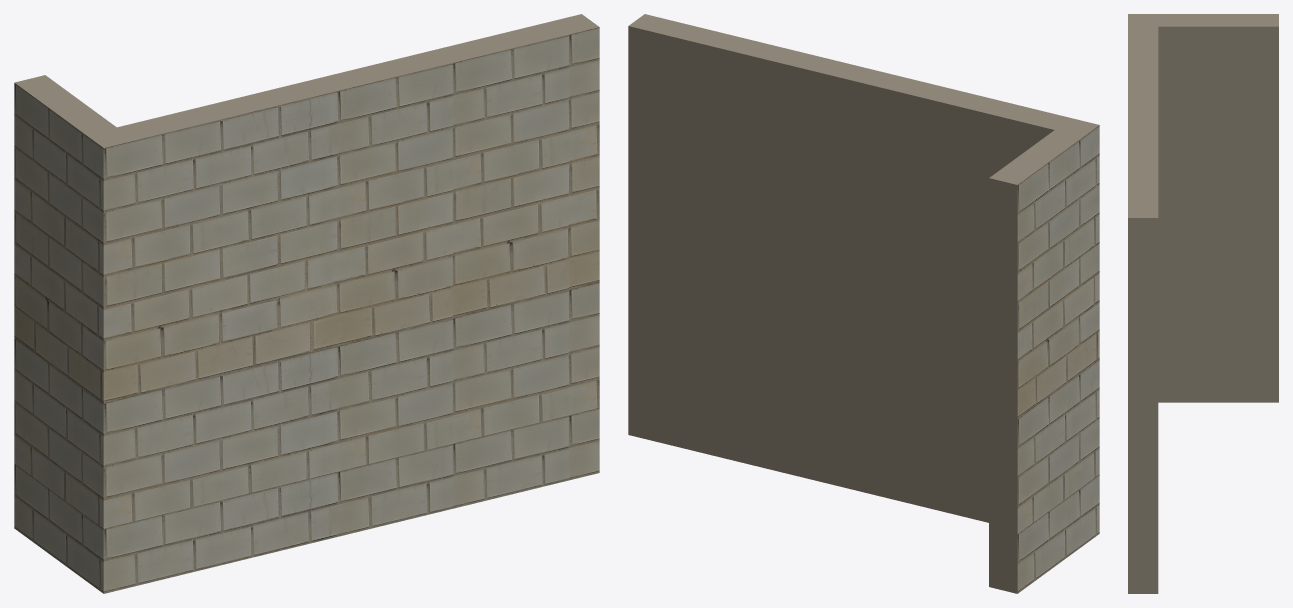
The picture shows the model from 3 angles, left to right: view 1: azimuth 30°, elevation 25°; view 2: azimuth 150°, elevation 25°; view 3: azimuth 270°, elevation 25°; orthographic projection. The views are drawn at different scales.
Visible parts, largest first — view 1: wall; view 2: wall; view 3: wall.
Part boxes in pixels (left/top/right/bottom): wall: left=14, top=14, right=599, bottom=593; wall: left=628, top=14, right=1099, bottom=593; wall: left=1128, top=14, right=1278, bottom=593.
Bounding box in the file's own units: 32 × 27.5 × 10.
